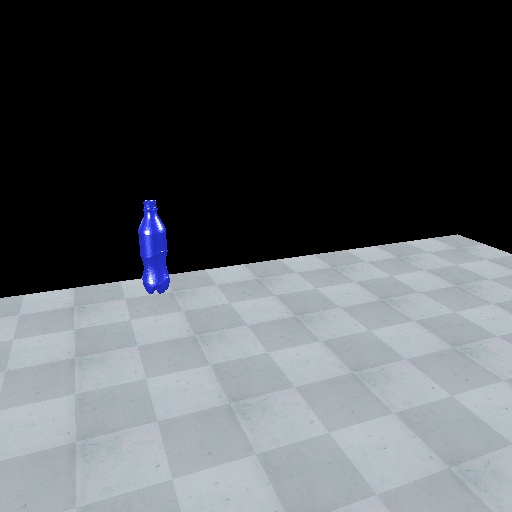bottle: (135, 196, 172, 295)
